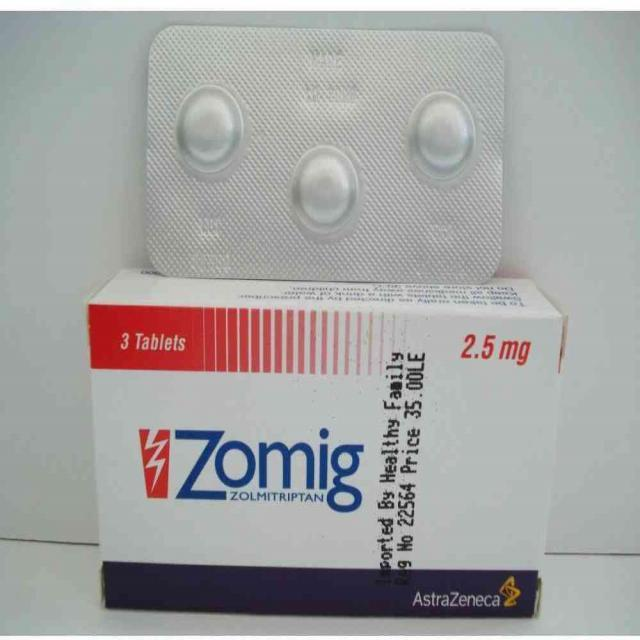drug-name: (172, 428, 370, 514)
